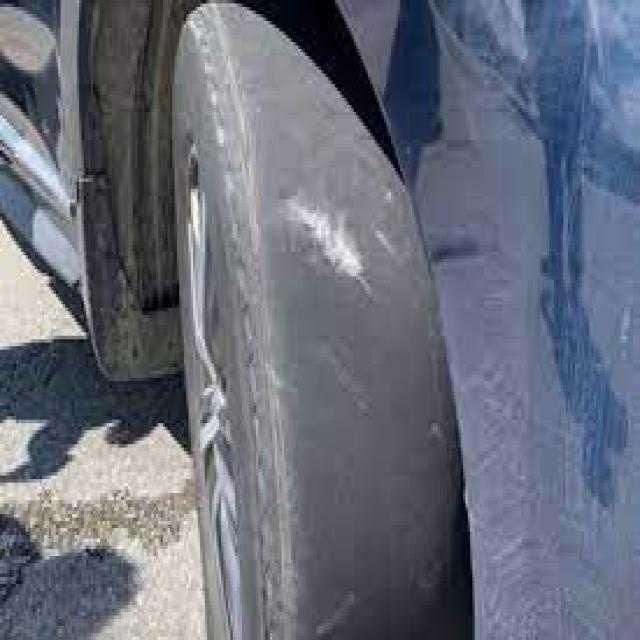Flat spots: (278, 218, 425, 639), (238, 54, 328, 209)
